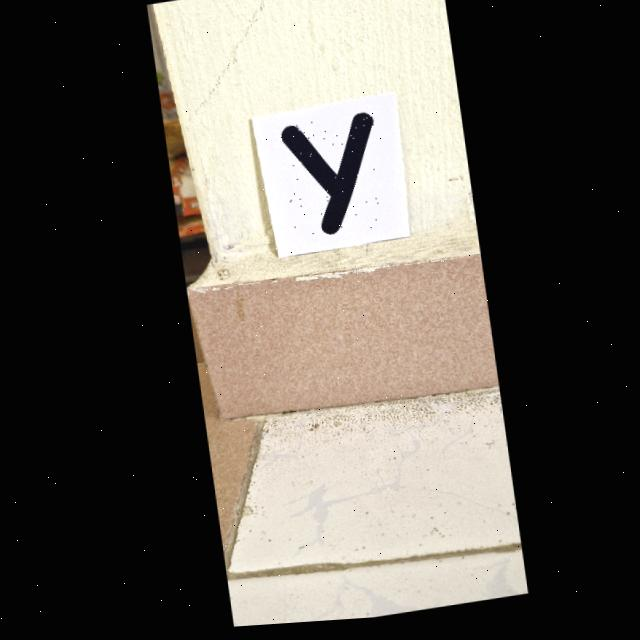Y: (279, 117, 370, 239)
